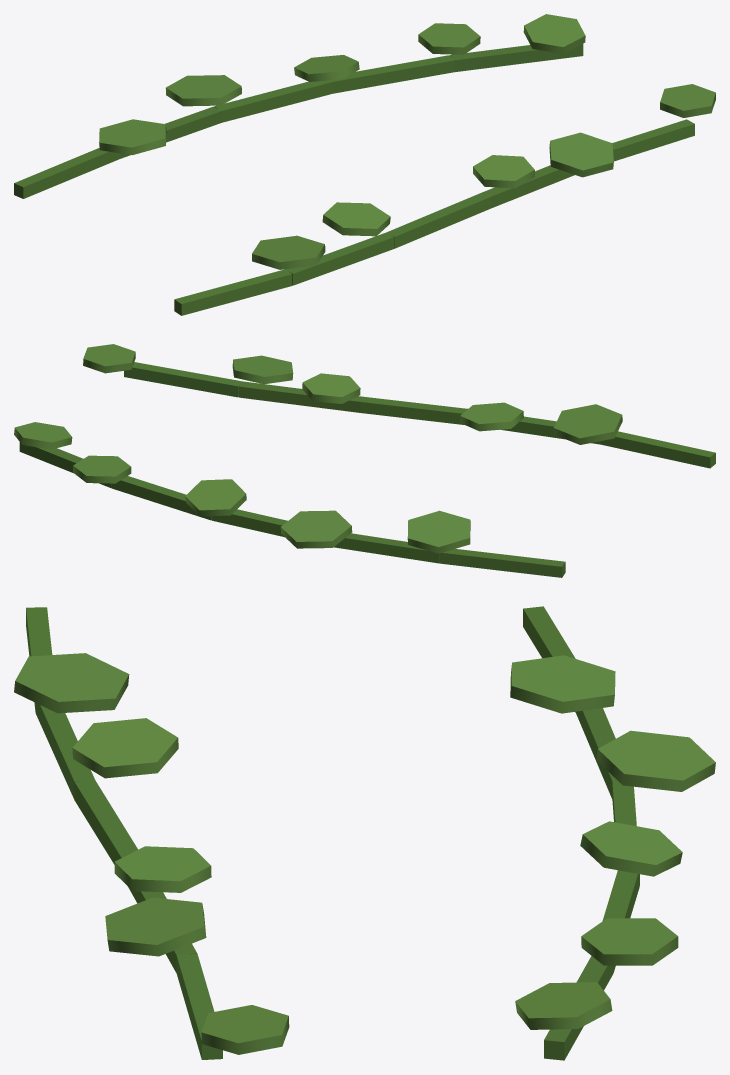
The model's file is farm_gourd_stage2.glb.
3 renders of one model, top to bottom at view 1: azimuth 30°, elevation 25°; view 2: azimuth 150°, elevation 25°; view 3: azimuth 270°, elevation 25°, orthographic. The views are drawn at different scales.
Parts seen in each view (by area): view 1: FarmBody; view 2: FarmBody; view 3: FarmBody.
Part boxes in pixels (box(x1,y1,x2,y2)): FarmBody: box(14, 14, 715, 315); FarmBody: box(14, 344, 715, 577); FarmBody: box(14, 606, 715, 1060).
Size of the model in its own units: 1.8 by 0.0901 by 1.16.
